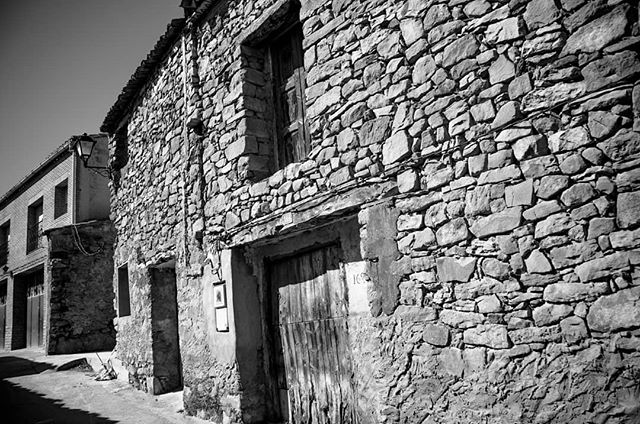building: (128, 1, 640, 396), (1, 135, 101, 352)
door: (234, 219, 356, 424)
sky: (5, 1, 176, 174)
